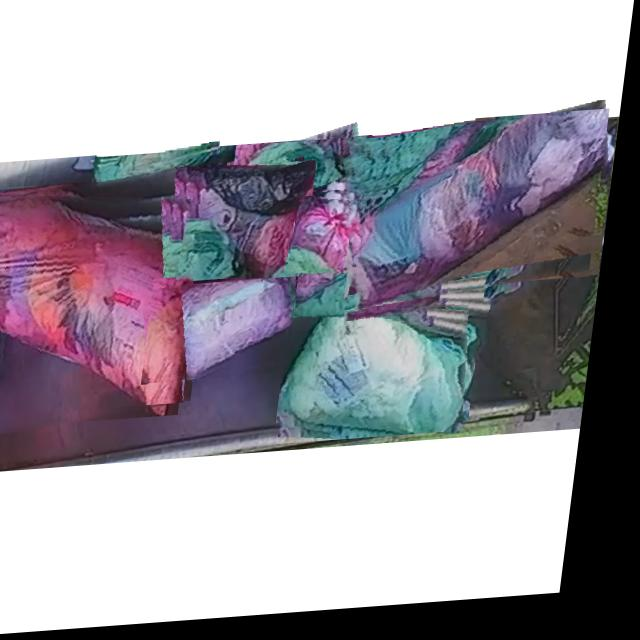general_trashbag: (290, 305, 479, 441), (240, 147, 371, 240), (304, 248, 450, 320), (99, 147, 223, 189)
other_trashbag: (365, 119, 614, 314), (0, 195, 198, 408), (158, 275, 303, 383), (199, 168, 321, 281), (300, 204, 371, 274)
